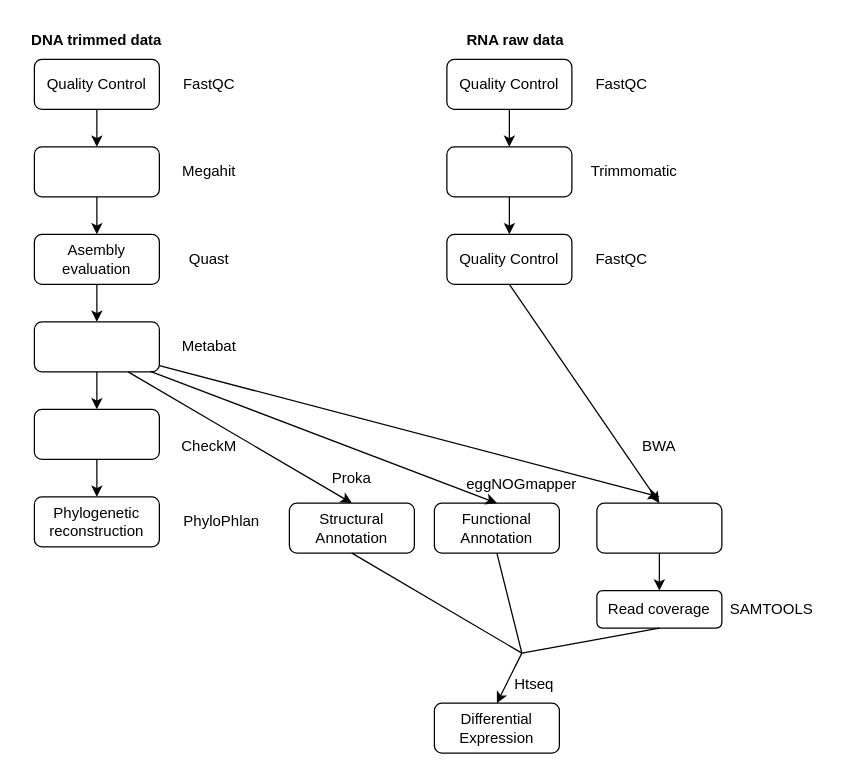
The diagram is 843 pixels wide and 775 high, and some of its shapes have lost their labels. The centre of each missing label's shape, as x and y in pixels:
"Assembly" belongs at pixel 96 171.
"Binning" belongs at pixel 96 346.
"Binning evaluation" belongs at pixel 96 433.
"RNA Mapping" belongs at pixel 659 527.
"Trimming" belongs at pixel 509 171.
